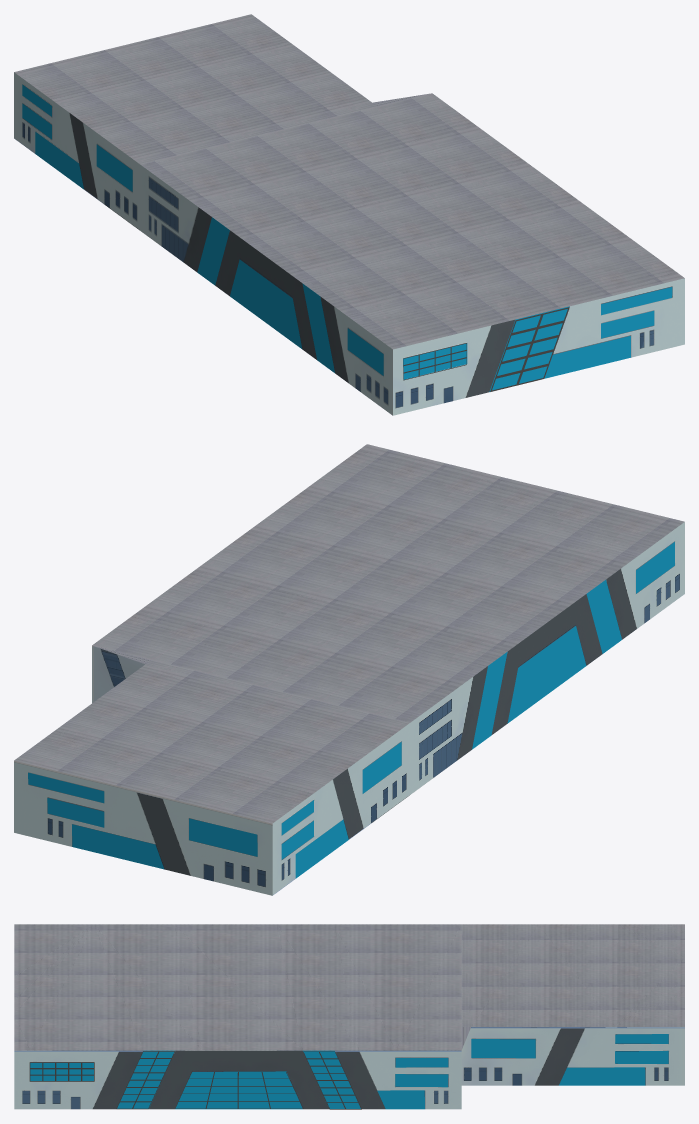
Rendered from ypfac2.glb.
3 renders of one model, top to bottom at view 1: azimuth 30°, elevation 25°; view 2: azimuth 150°, elevation 25°; view 3: azimuth 270°, elevation 25°, orthographic. The views are drawn at different scales.
Visible parts, largest first — view 1: 平面.003; view 2: 平面.003; view 3: 平面.003.
Boxes of the visible parts, x1,y1,x2,y2 form: 平面.003: (14, 14, 684, 415); 平面.003: (14, 444, 684, 895); 平面.003: (14, 924, 684, 1109).
Bounding box in the file's own units: 80.26 × 17.49 × 180.
Materials: 4 (2 with a texture image).
